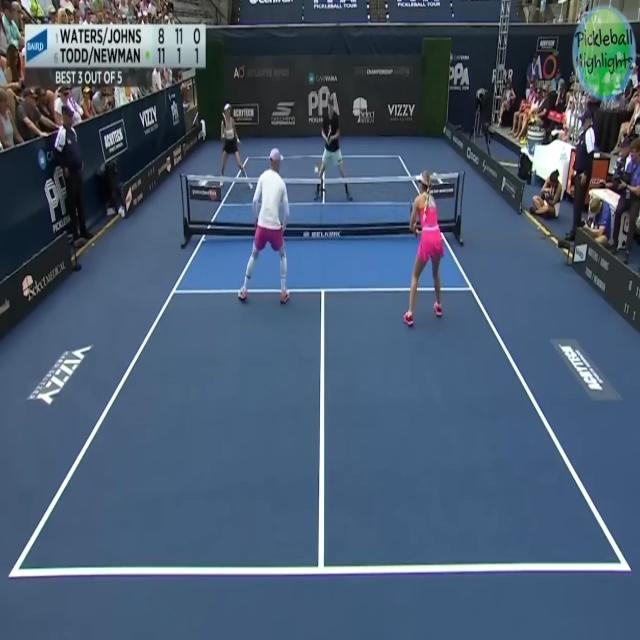Pickleball: (314, 163, 320, 175)
